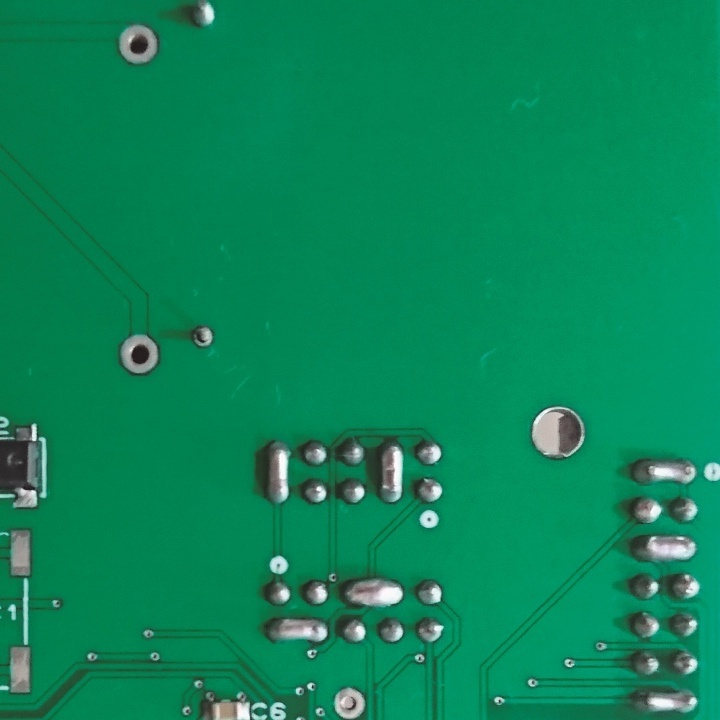F: (115, 335, 165, 375), (116, 23, 161, 67), (330, 683, 364, 720), (187, 323, 218, 352)
P: (263, 438, 296, 512), (627, 455, 701, 488), (626, 531, 700, 563), (261, 612, 330, 646), (376, 435, 407, 509), (629, 684, 703, 715), (341, 577, 408, 609)
